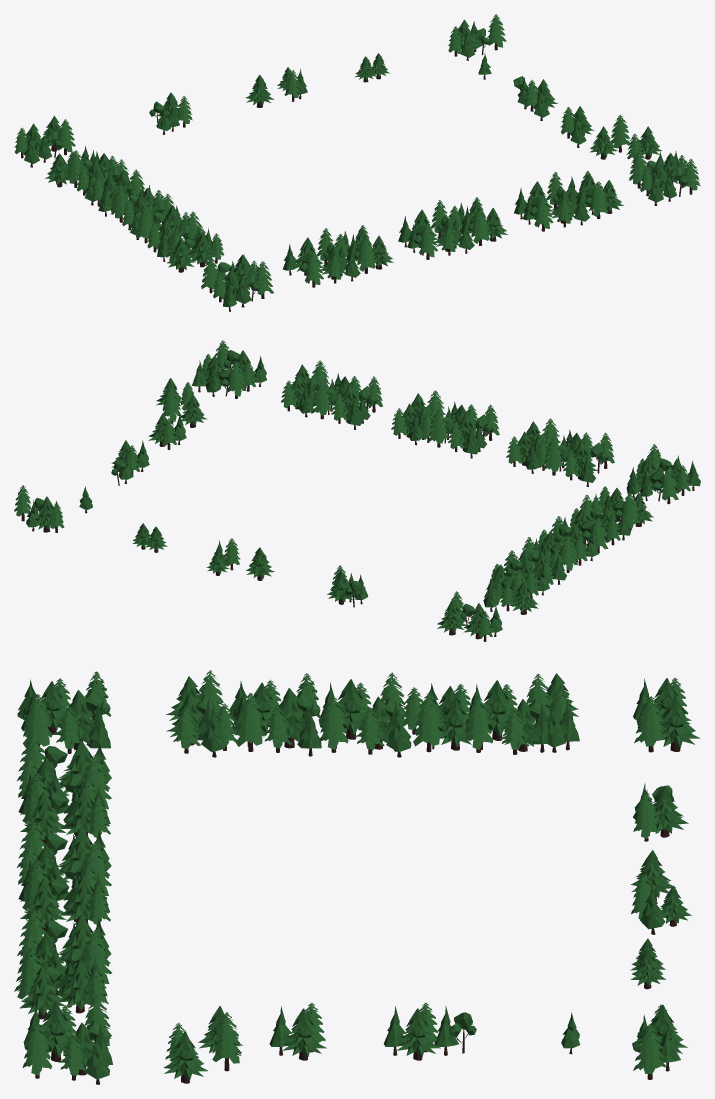
File: Trees.fbx
3 views of the same model, one above another, from view 1: azimuth 30°, elevation 25°; view 2: azimuth 150°, elevation 25°; view 3: azimuth 270°, elevation 25° (orthographic). The views are drawn at different scales.
Parts seen in each view (by area): view 1: trees; view 2: trees; view 3: trees.
Part boxes in pixels (x1=…): trees: x1=14, y1=14, x2=700, y2=311; trees: x1=14, y1=340, x2=700, y2=641; trees: x1=14, y1=670, x2=700, y2=1084.
Size of the model in its own units: 14546 by 1121 by 11195.
